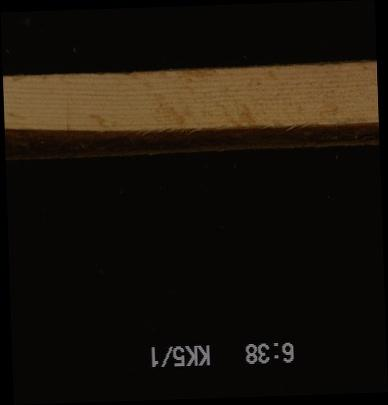wave: (4, 121, 378, 155)
